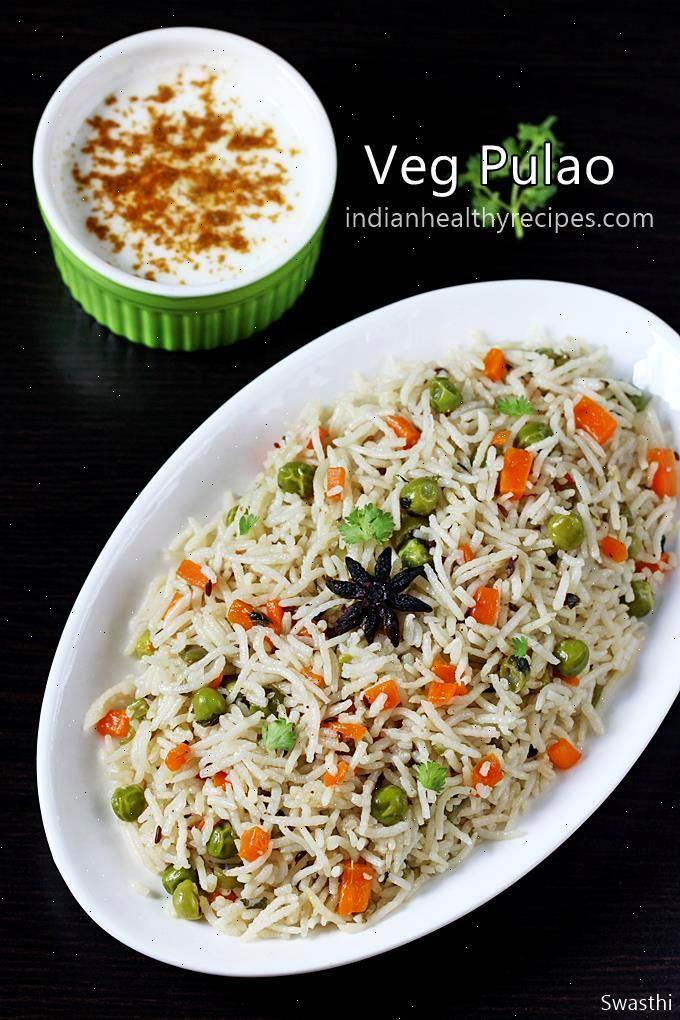veg-pulao: (65, 311, 680, 982)
yogurt: (40, 29, 332, 310)
